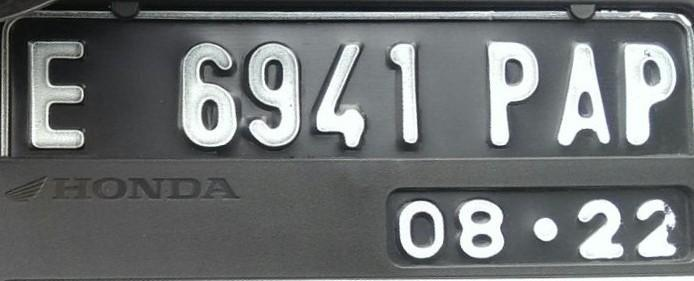1: (385, 35, 432, 158)
4: (302, 36, 380, 156)
6: (178, 42, 242, 152)
9: (238, 38, 308, 157)
A: (547, 37, 623, 149)
E: (22, 33, 98, 154)
P: (616, 40, 686, 146), (488, 36, 550, 152)
